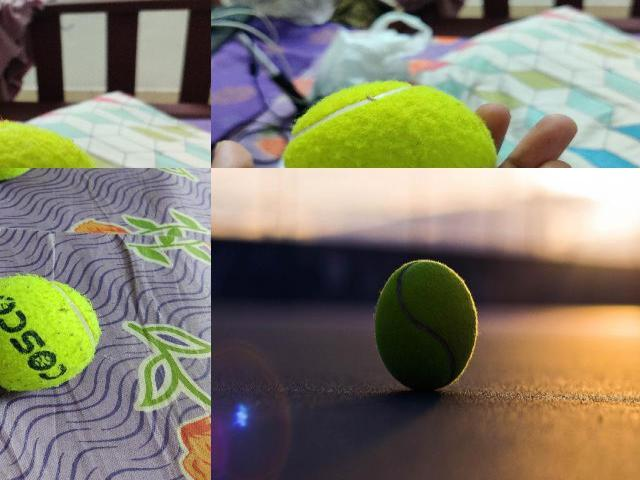tennis-ball: (281, 78, 498, 167), (374, 258, 478, 390), (0, 274, 102, 390), (0, 120, 101, 169)
